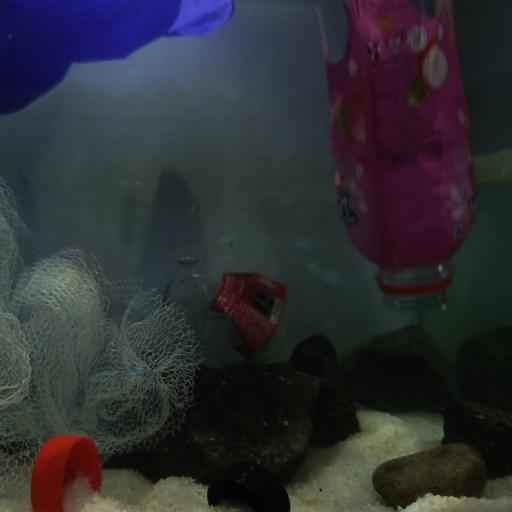bottle_cap: (34, 433, 102, 512), (205, 457, 290, 512)
glove: (0, 0, 247, 113)
net: (0, 173, 203, 489)
plastic_bottle: (310, 0, 476, 315), (163, 254, 331, 364)
